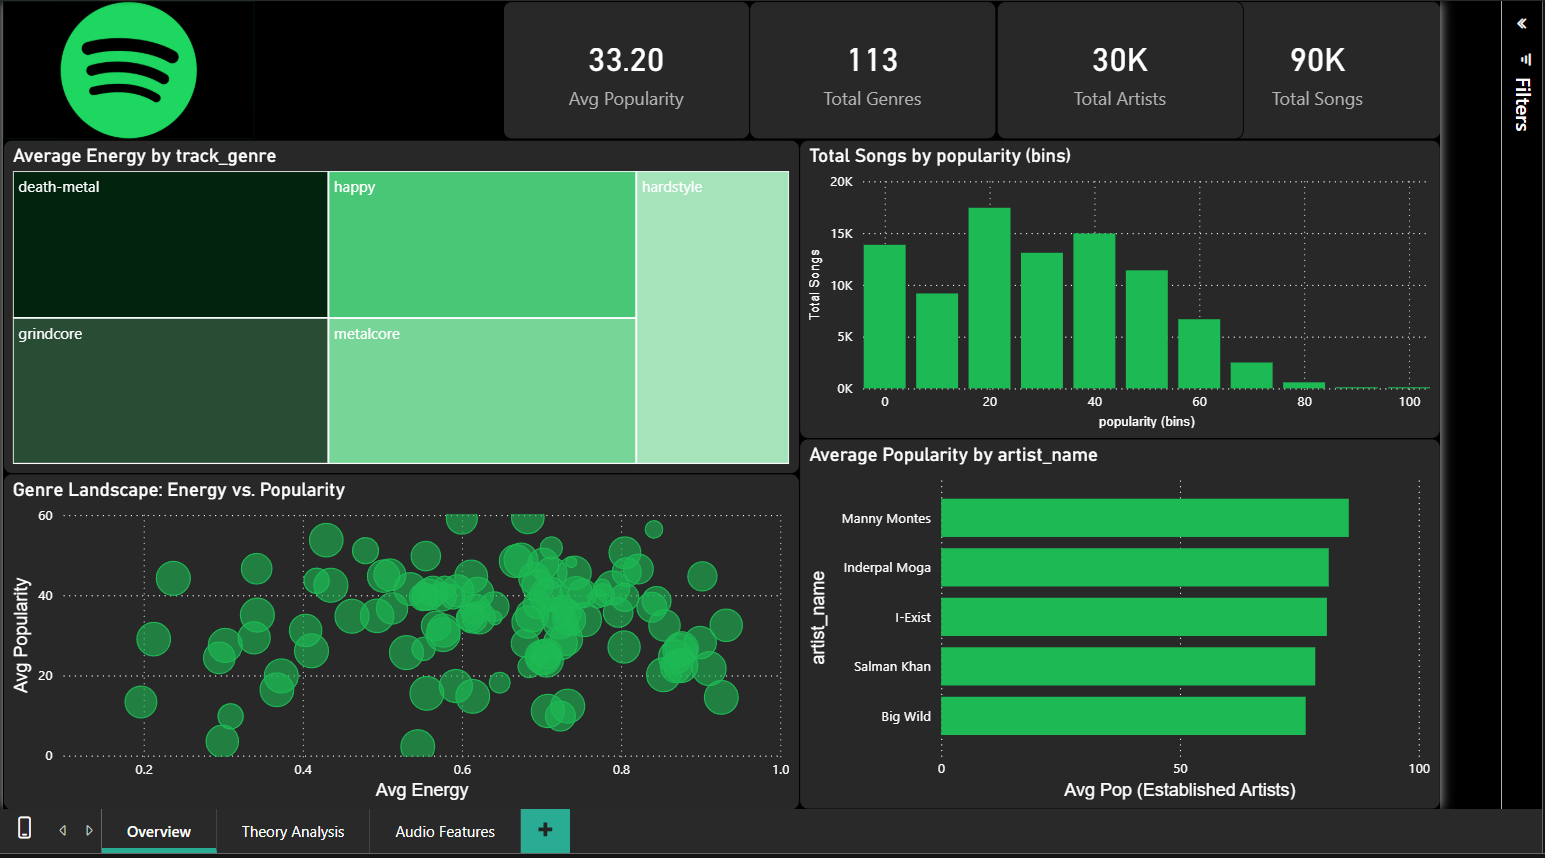

The dashboard page shown, as its layout file describes it:
{"tool":"powerbi","page":{"name":"Overview","canvas":[1280,720],"ordinal":0},"visuals":[{"type":"scatterChart","title":"Genre Landscape: Energy vs. Popularity","fields":{"Category":["dim_genre.track_genre"],"X":["_Measures.Avg Energy"],"Y":["_Measures.Avg Popularity"],"Size":["_Measures.Total Songs"]},"box":[0,420.9,709.3,300],"z":0},{"type":"card","fields":{"Values":["_Measures.Total Songs"]},"box":[1060.5,0,219.8,123.3],"z":1000},{"type":"card","fields":{"Values":["_Measures.Avg Popularity"]},"box":[445.4,0,219.8,123.3],"z":2000},{"type":"barChart","title":"Average Popularity by artist_name","fields":{"Category":["dim_artist.artist_name"],"Y":["_Measures.Avg Pop (Established Artists)"]},"box":[709.4,389.7,570.8,330.7],"z":3000},{"type":"treemap","title":"Average Energy by track_genre","fields":{"Group":["dim_genre.track_genre"],"Values":["_Measures.Avg Energy"]},"box":[0,123.3,709.3,297.7],"z":4000},{"type":"card","fields":{"Values":["_Measures.Total Artists"]},"box":[884.9,0,219.8,123.3],"z":5000},{"type":"card","fields":{"Values":["_Measures.Total Genres"]},"box":[665.1,0,219.8,123.3],"z":6000},{"type":"clusteredColumnChart","fields":{"Y":["_Measures.Total Songs"],"Category":["fact_songs.popularity (bins)"]},"box":[709.4,123.5,570.8,266.2],"z":7000},{"type":"image","box":[0,0,223.7,123.5],"z":8000}]}

Visuals, with their boxes on the page's 1280x720 design canvas (x1, y1, x2, y2). These are canvas units, not pixel positions in the 1545x858 screenshot, which may show the page scaled, cropped or inside an application window:
"Genre Landscape: Energy vs. Popularity" scatterChart: bbox=[0, 421, 709, 721]
card - _Measures.Total Songs: bbox=[1060, 0, 1280, 123]
card - _Measures.Avg Popularity: bbox=[445, 0, 665, 123]
"Average Popularity by artist_name" barChart: bbox=[709, 390, 1280, 720]
"Average Energy by track_genre" treemap: bbox=[0, 123, 709, 421]
card - _Measures.Total Artists: bbox=[885, 0, 1105, 123]
card - _Measures.Total Genres: bbox=[665, 0, 885, 123]
clusteredColumnChart - _Measures.Total Songs x fact_songs.popularity (bins): bbox=[709, 124, 1280, 390]
image: bbox=[0, 0, 224, 124]
